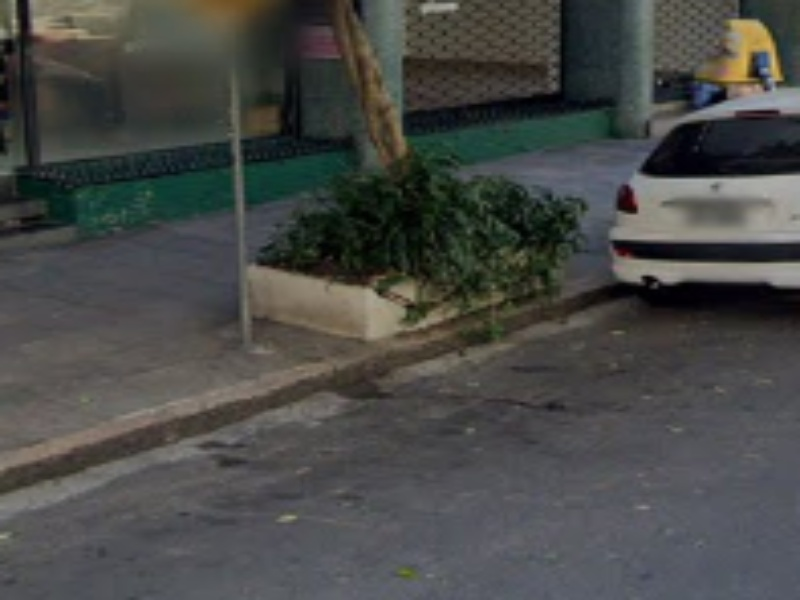v82: (5, 241, 597, 514)
